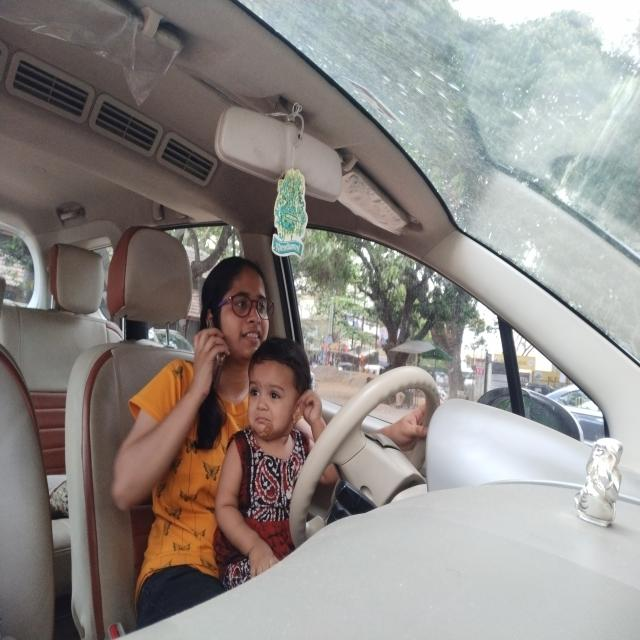child: (244, 337, 312, 441)
mobile: (202, 301, 228, 373)
person: (196, 255, 278, 360)
